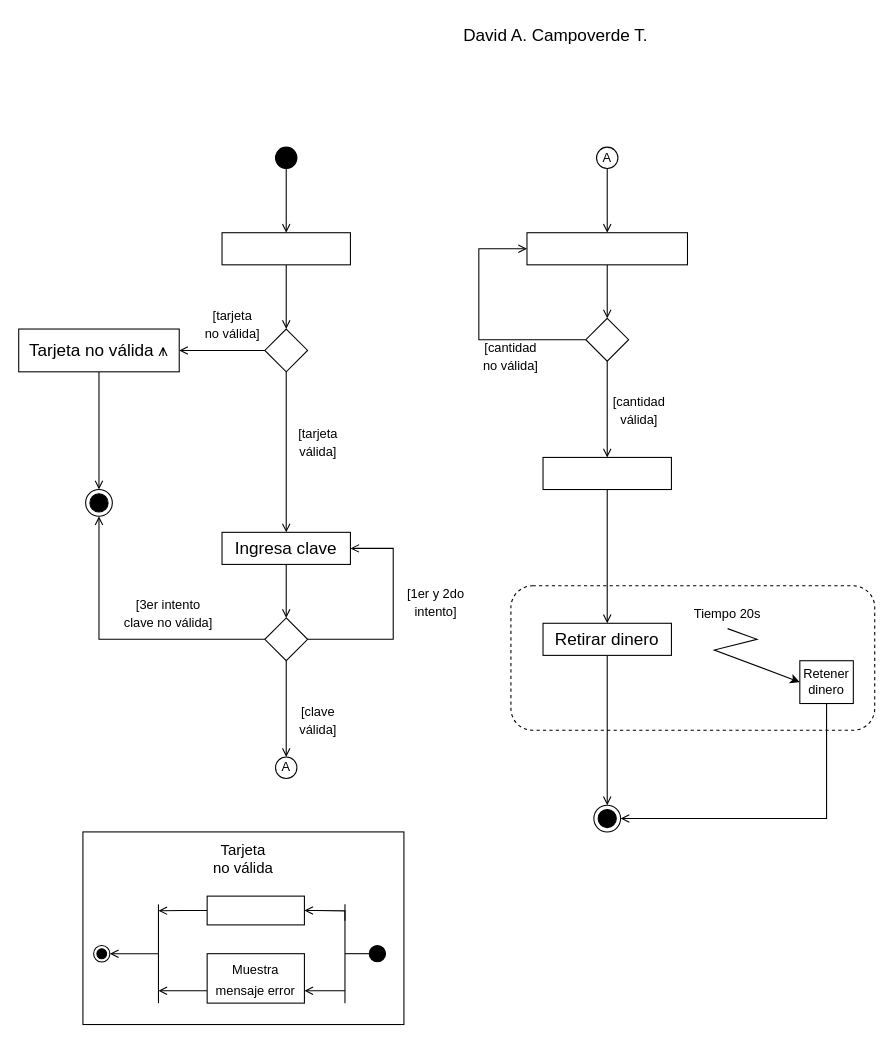
Image size: 893x1043. Some labels were removed from this diagram. Here are the shapes that lost their labels. From the top down, the box of each, then its label:
(221, 232, 350, 265): Inserta tarjeta
(526, 232, 687, 265): Introduce cantidad
(542, 456, 671, 490): Retirar tarjeta
(206, 895, 304, 925): Expulsa tarjeta
